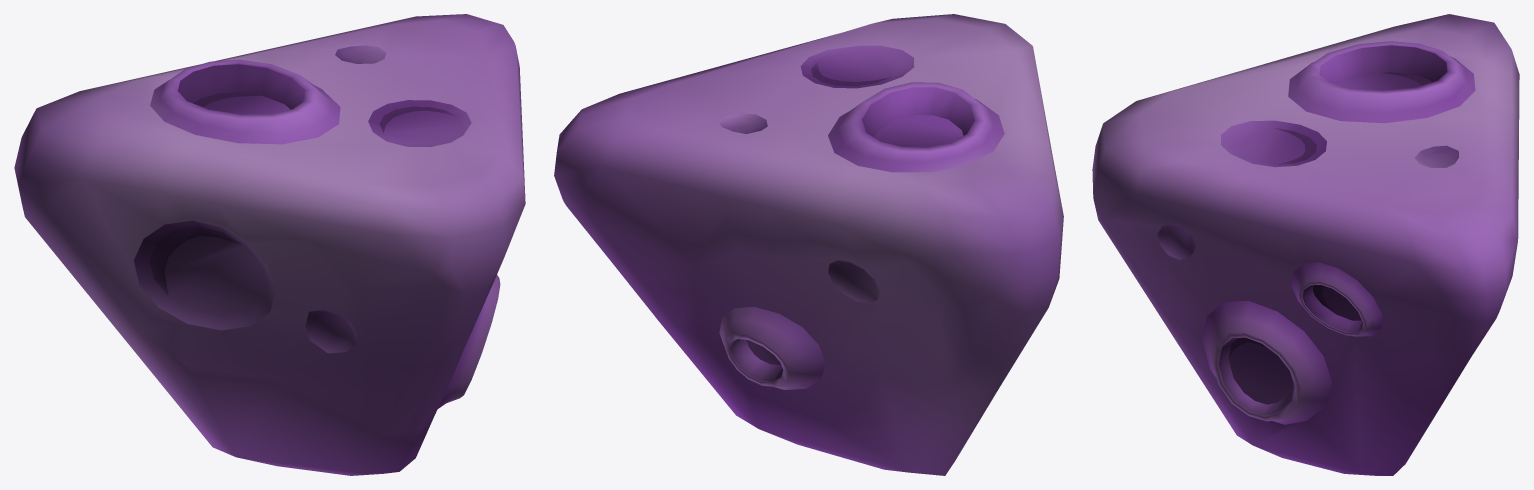
The model's file is SM_Asteroid_03.fbx.
3 views of the same model, side by side, from view 1: azimuth 30°, elevation 25°; view 2: azimuth 150°, elevation 25°; view 3: azimuth 270°, elevation 25° (orthographic). The views are drawn at different scales.
Visible parts, largest first — view 1: SM_Asteroid_03; view 2: SM_Asteroid_03; view 3: SM_Asteroid_03.
Part boxes in pixels (bbox=[...]): SM_Asteroid_03: bbox=[14, 14, 525, 475]; SM_Asteroid_03: bbox=[554, 14, 1063, 475]; SM_Asteroid_03: bbox=[1092, 14, 1519, 475].
Size of the model in its own units: 9.38 by 6.61 by 7.29.
